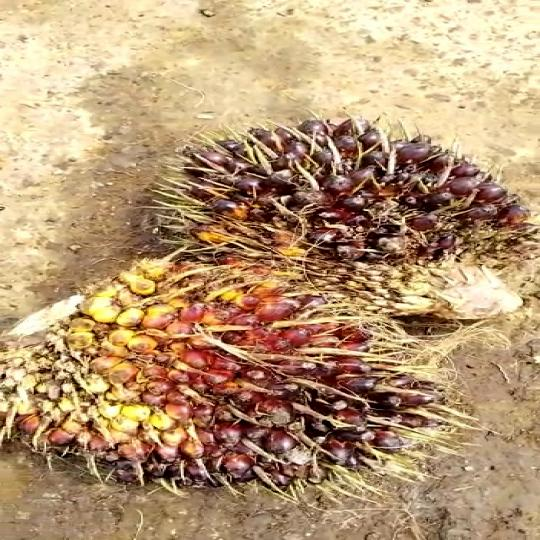kurang masak: (0, 254, 463, 488), (154, 107, 540, 364)
